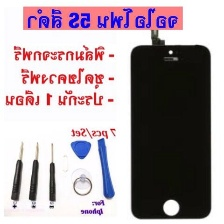phone: (128, 42, 214, 221)
